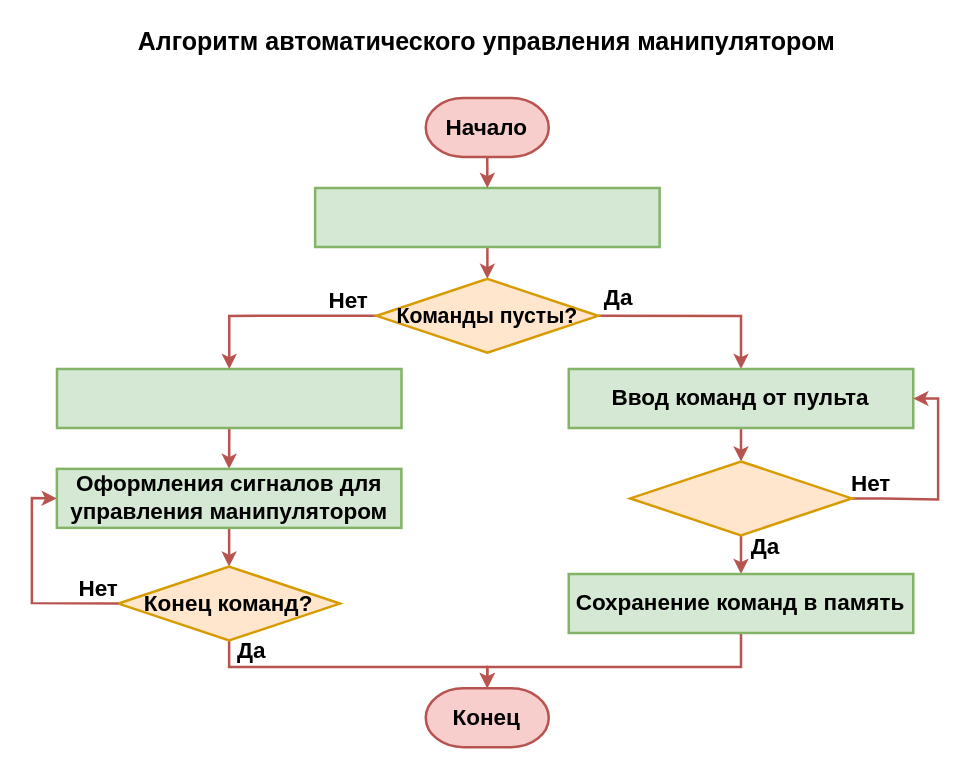
Some shapes in this 970 by 770 pixel diagram are drawn without their labels. The shapes that lost their labels are listed below. From the top down, each one's centre as x and y in pixels, then its label:
At point 486,217: "Чтение команд от памяти".
At point 228,398: "Обработка чтенных команд".
At point 740,498: "Нажатие В 1 ?".
